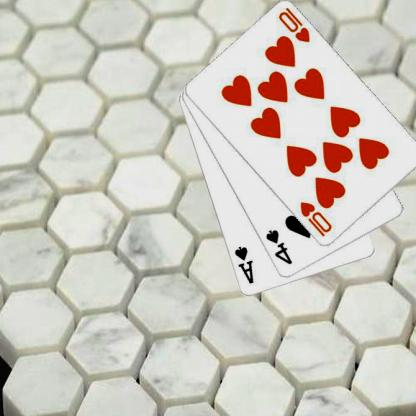10H: (277, 5, 313, 44), (300, 200, 336, 238)
4S: (264, 227, 295, 266)
AS: (234, 244, 256, 286)
